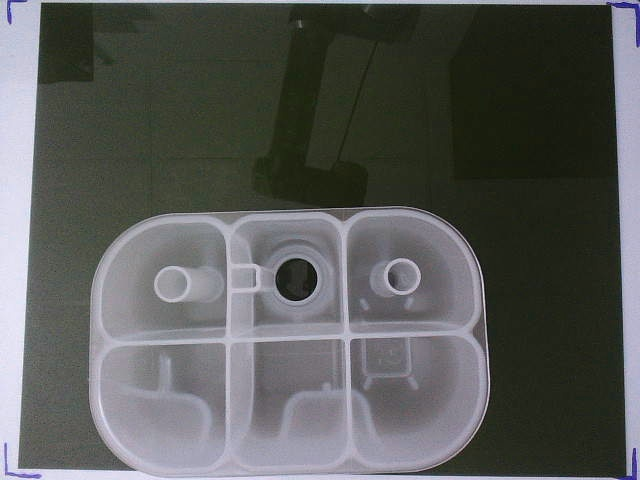reservoir_transparent_Under: (90, 206, 489, 480)
